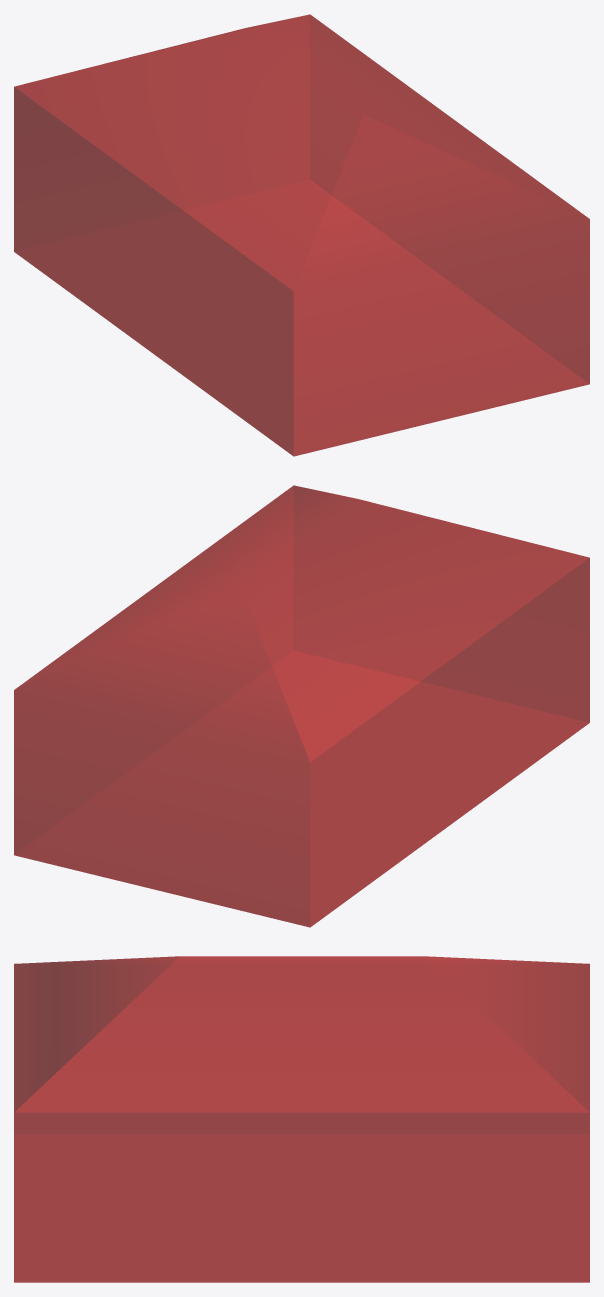
Rendered from SM_Bld_House_Preset_05_COLLISION.fbx.
3 views of the same model, one above another, from view 1: azimuth 30°, elevation 25°; view 2: azimuth 150°, elevation 25°; view 3: azimuth 270°, elevation 25° (orthographic). The views are drawn at different scales.
Visible parts, largest first — view 1: SM_Bld_House_Preset_05_COLLISION; view 2: SM_Bld_House_Preset_05_COLLISION; view 3: SM_Bld_House_Preset_05_COLLISION.
Boxes of the visible parts, x1,y1,x2,y2 form: SM_Bld_House_Preset_05_COLLISION: (14, 14, 589, 456); SM_Bld_House_Preset_05_COLLISION: (14, 485, 589, 927); SM_Bld_House_Preset_05_COLLISION: (14, 956, 589, 1282).
Size of the model in its own units: 793 by 630 by 1298.
